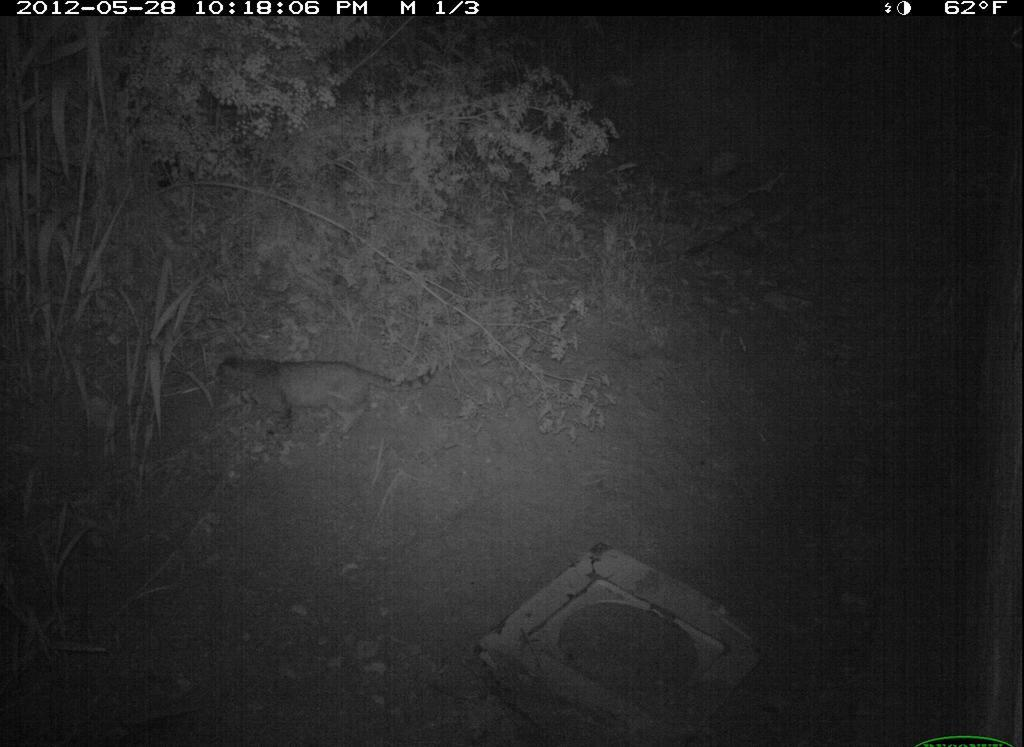cat: (209, 342, 446, 455)
